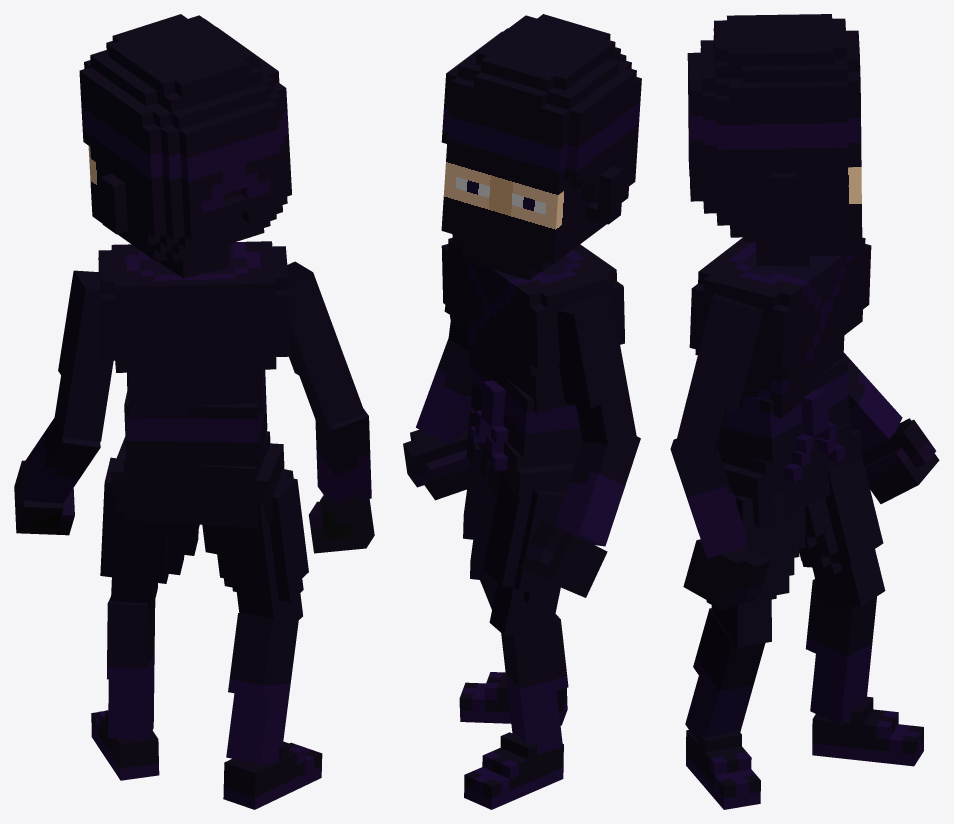
File: Ninja_Idle.dae
3 renders of one model, left to right at view 1: azimuth 30°, elevation 25°; view 2: azimuth 150°, elevation 25°; view 3: azimuth 270°, elevation 25°, orthographic. The views are drawn at different scales.
Parts seen in each view (by area): view 1: Head-local, Chest-local, Hip-local, Right_Thigh-local, Right_Leg-local, Belly-local, Right_Arm-local, Left_Arm-local, Left_Thigh-local, Left_Leg-local, Right_Forearm-local, Right_Foot-local (+4 smaller); view 2: Head-local, Chest-local, Left_Arm-local, Left_Thigh-local, Left_Leg-local, Belly-local, Left_Forearm-local, Left_Foot-local, Hip-local, Left_Hand-local, Right_Forearm-local, Right_Hand-local (+3 smaller); view 3: Head-local, Chest-local, Left_Thigh-local, Right_Arm-local, Belly-local, Left_Leg-local, Right_Thigh-local, Hip-local, Right_Leg-local, Right_Forearm-local, Left_Foot-local, Right_Foot-local (+3 smaller).
Part boxes in pixels (x1,y1,x2,y2): Head-local: [79, 14, 291, 278]; Chest-local: [98, 241, 289, 416]; Hip-local: [111, 431, 284, 527]; Right_Thigh-local: [202, 469, 308, 619]; Right_Leg-local: [226, 613, 298, 763]; Belly-local: [124, 369, 267, 466]; Right_Arm-local: [287, 261, 365, 431]; Left_Arm-local: [54, 270, 113, 441]; Left_Thigh-local: [100, 457, 199, 621]; Left_Leg-local: [107, 597, 155, 740]; Right_Forearm-local: [315, 408, 371, 507]; Right_Foot-local: [223, 741, 322, 809]; Head-local: [441, 14, 641, 280]; Chest-local: [441, 234, 624, 413]; Left_Arm-local: [557, 294, 636, 444]; Left_Thigh-local: [483, 473, 565, 635]; Left_Leg-local: [501, 614, 568, 753]; Belly-local: [471, 370, 582, 457]; Left_Forearm-local: [555, 433, 640, 546]; Left_Foot-local: [464, 732, 563, 809]; Hip-local: [466, 409, 579, 501]; Left_Hand-local: [520, 520, 607, 597]; Right_Forearm-local: [416, 338, 474, 443]; Right_Hand-local: [403, 429, 470, 500]; Head-local: [687, 14, 862, 266]; Chest-local: [689, 237, 871, 418]; Left_Thigh-local: [799, 455, 885, 606]; Right_Arm-local: [675, 294, 763, 458]; Belly-local: [717, 358, 849, 462]; Left_Leg-local: [805, 579, 876, 725]; Right_Thigh-local: [706, 484, 805, 647]; Hip-local: [718, 422, 861, 527]; Right_Leg-local: [685, 608, 765, 744]; Right_Forearm-local: [670, 437, 747, 558]; Left_Foot-local: [812, 696, 923, 766]; Right_Foot-local: [686, 730, 760, 809].
Bounding box in the file's own units: 23.78 × 61.11 × 20.47.
16 materials, 16 textured.
